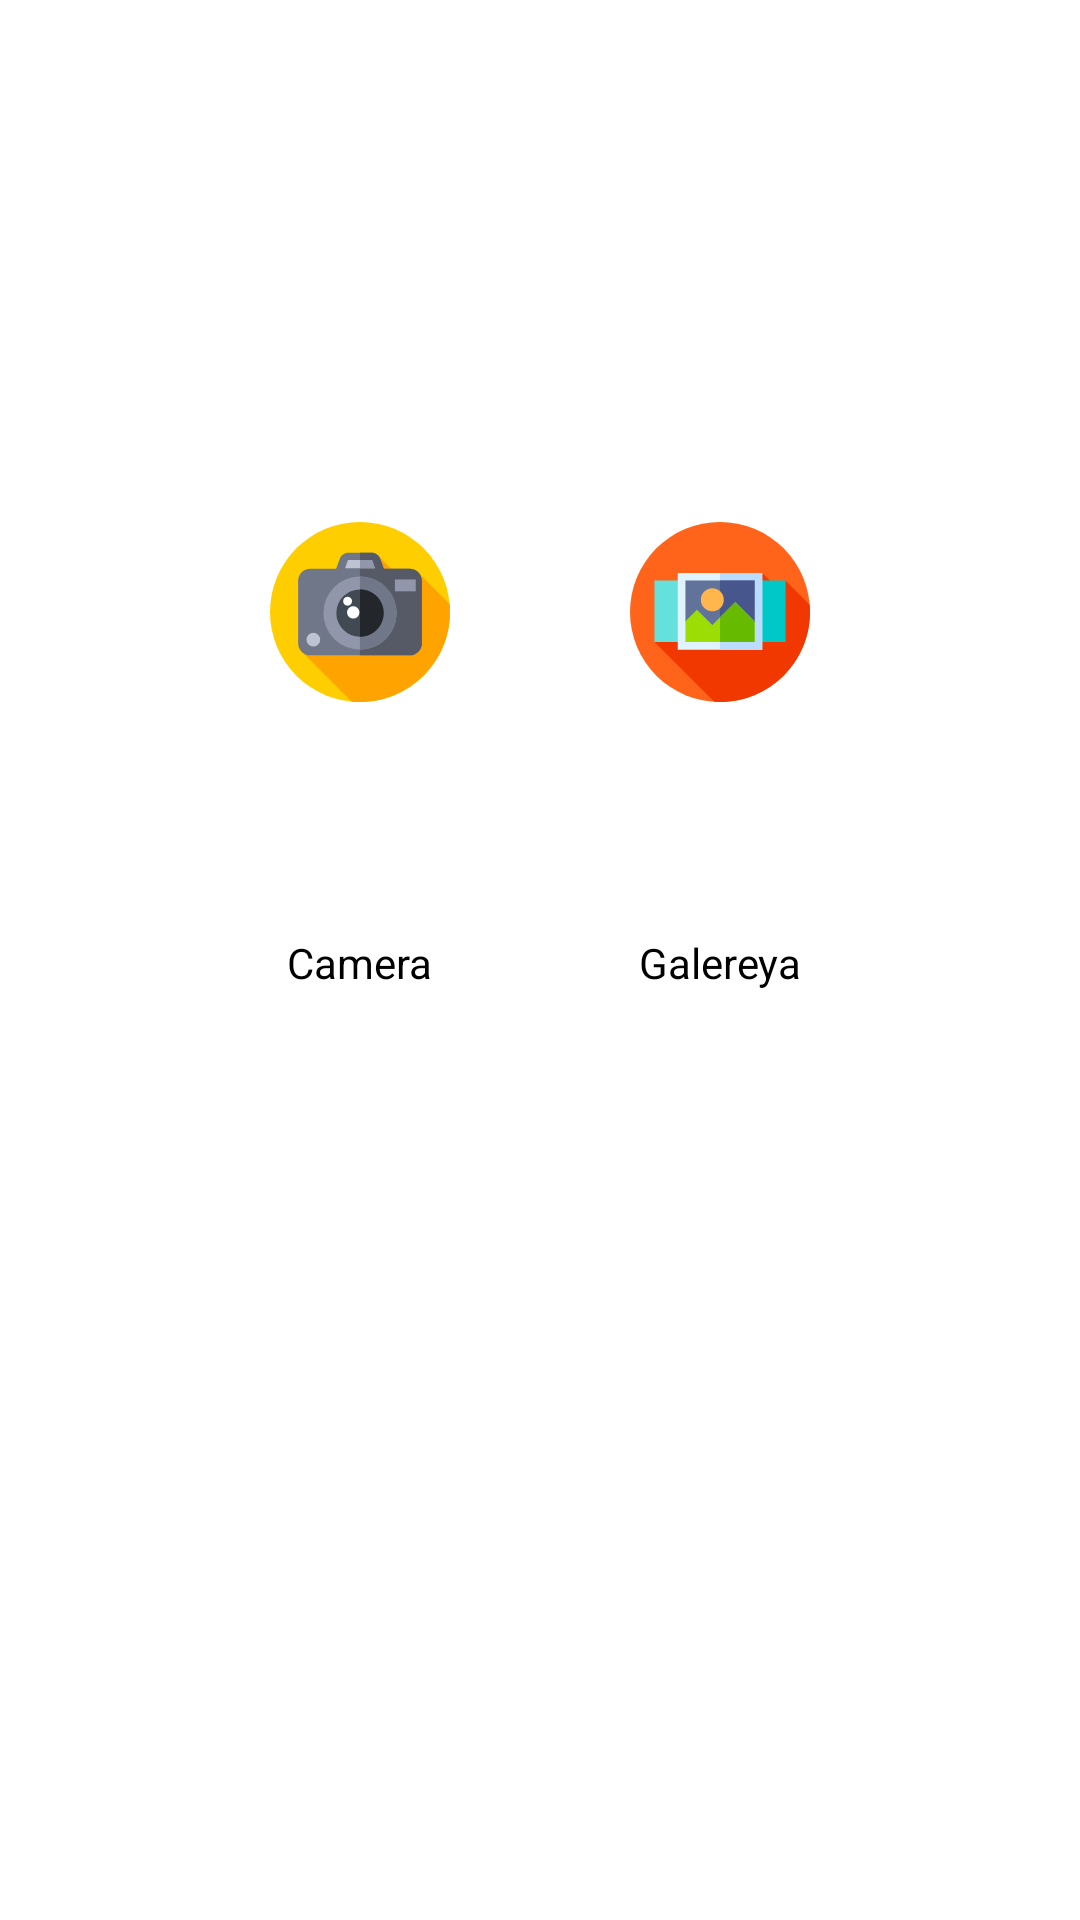

Icons on this 1080 x 1920 Android screen, each with the point to tap as point (x, y):
gallery: point (720, 612)
